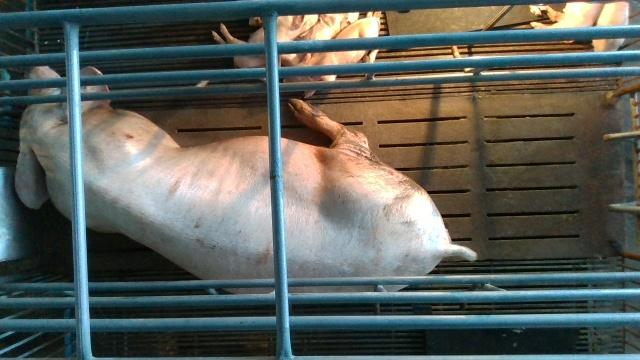piglet: (282, 15, 380, 102), (214, 15, 328, 69), (283, 5, 361, 72), (532, 2, 605, 43), (588, 0, 636, 51)
sow-sit: (14, 64, 478, 294)
